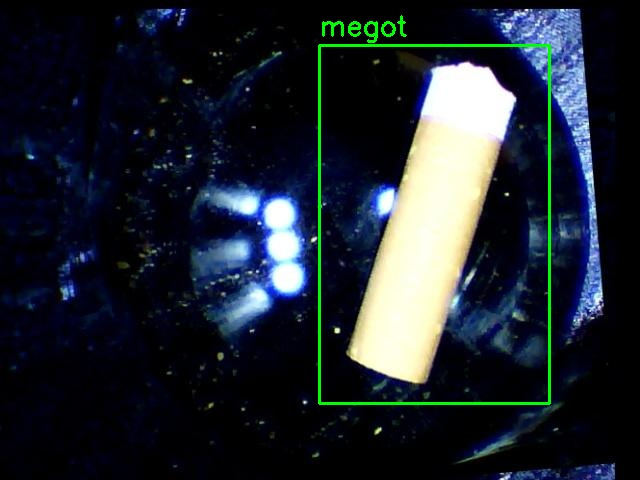megot: (319, 45, 549, 403)
